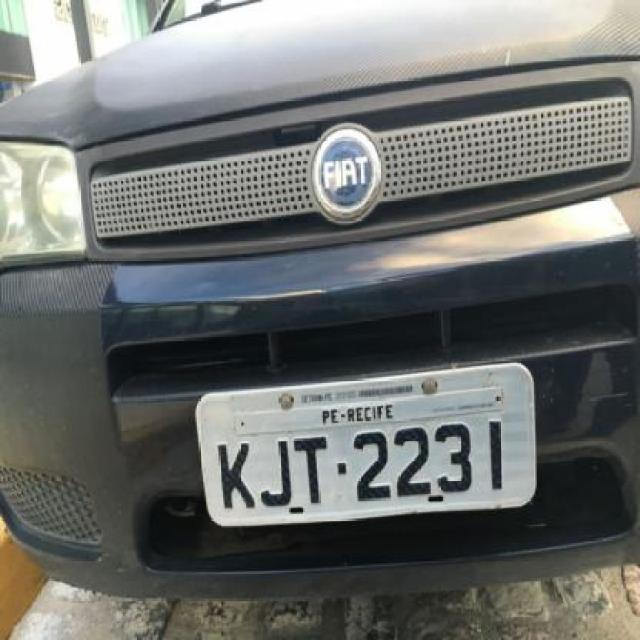old_plate: (190, 357, 542, 534)
